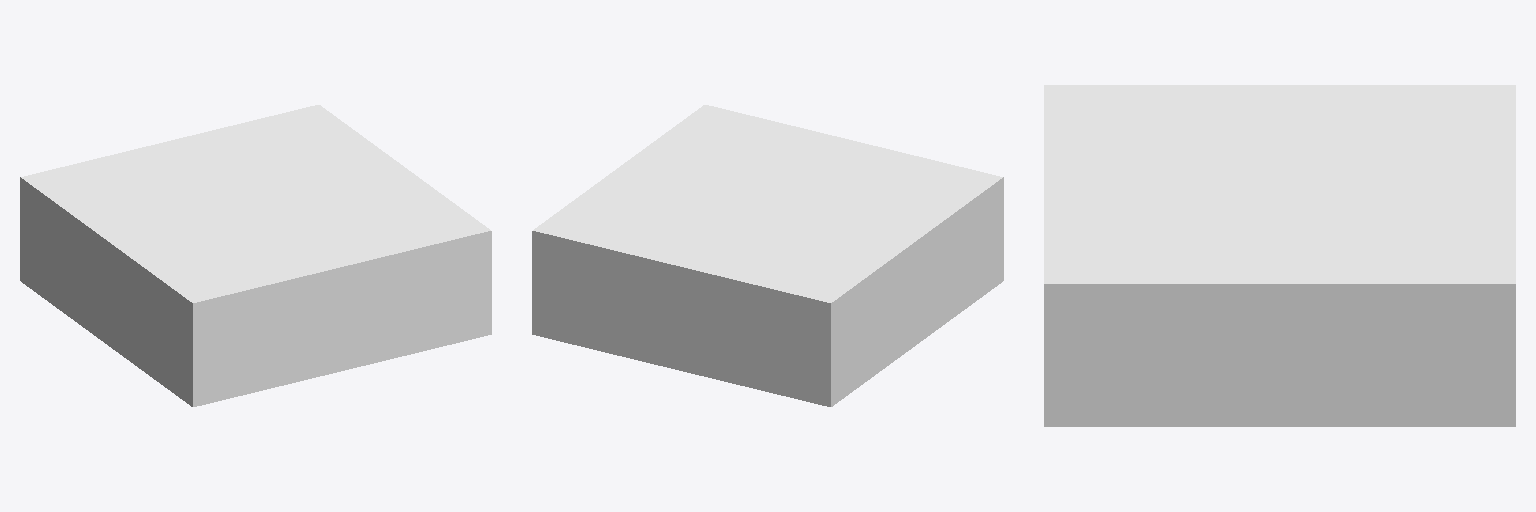
robot.urdf — plane:
<?xml version="1.0" ?>

<robot name="plane">
  <link name="planeLink">
  <contact>
      <lateral_friction value="1"/>
  </contact>
    <inertial>
      <origin rpy="0 0 0" xyz="0 0 -5"/>
       <mass value=".0"/>
       <inertia ixx="0" ixy="0" ixz="0" iyy="0" iyz="0" izz="0"/>
    </inertial>
    <visual>
      <origin rpy="0 0 0" xyz="0 0 -5"/>
      <geometry>
        <box size="30 30 10"/>
      </geometry>
       <material name="white">
        <color rgba="1 1 1 1"/>
      </material>
    </visual>
    <collision>
      <origin rpy="0 0 0" xyz="0 0 -5"/>
      <geometry>
        <box size="30 30 10"/>
      </geometry>
    </collision>
  </link>
</robot>

--- Facts derived from the render (not from the file) ---
Views: 3 orthographic renders of the robot side by side, from view 1: azimuth 30°, elevation 25°; view 2: azimuth 150°, elevation 25°; view 3: azimuth 270°, elevation 25°.
Robot: plane — 1 links, 0 joints (none); root link planeLink; default pose: every joint at zero.
Visible links, largest first — view 1: planeLink; view 2: planeLink; view 3: planeLink.
Boxes of the visible links, x1=… form: planeLink: x1=20, y1=105, x2=491, y2=406; planeLink: x1=532, y1=105, x2=1003, y2=406; planeLink: x1=1044, y1=85, x2=1515, y2=426.
Bounding box of the posed robot: 30 × 30 × 10 m (x, y, z).
Geometry: primitives only (box / cylinder / sphere), no mesh files.